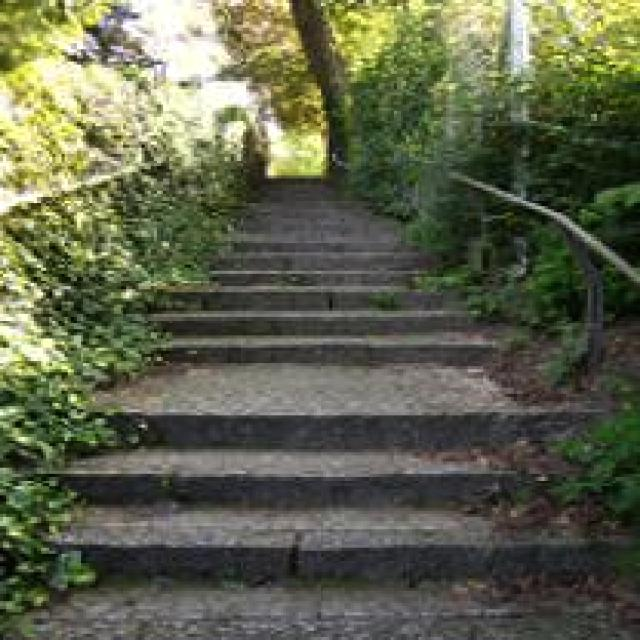upstair: (38, 361, 640, 640)
